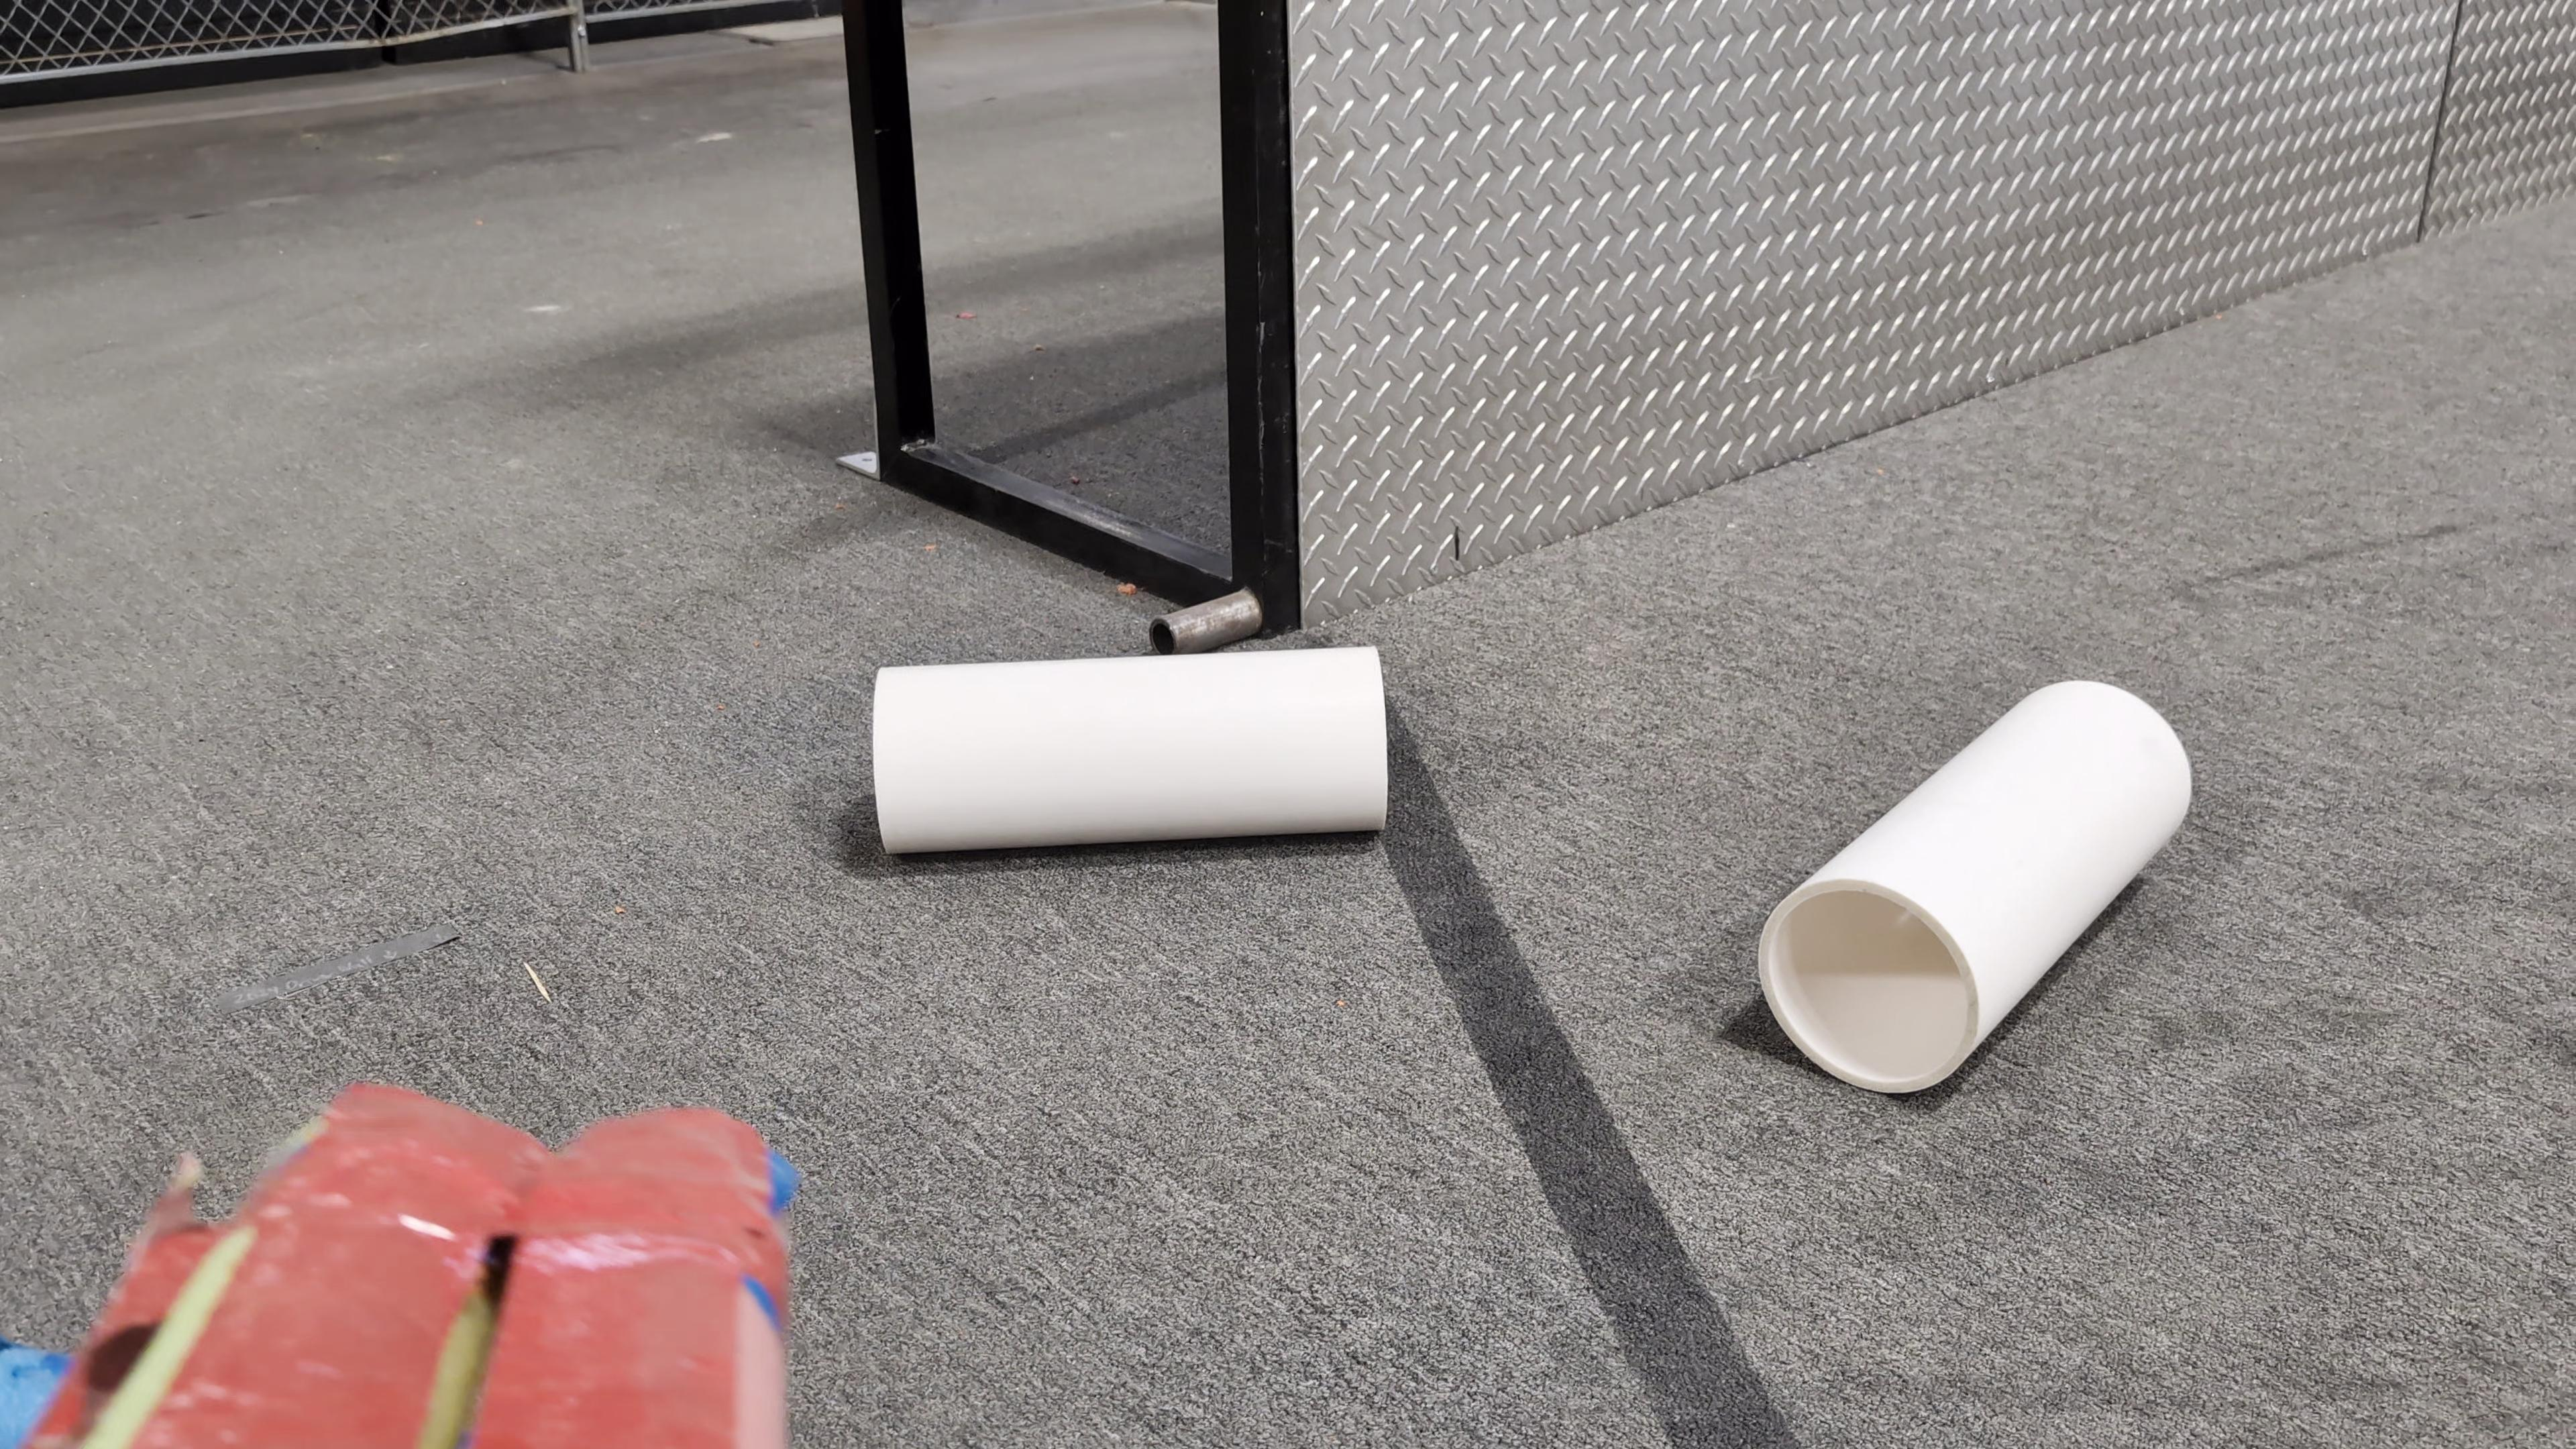coral: (1762, 681, 2192, 1095), (872, 646, 1385, 858)
